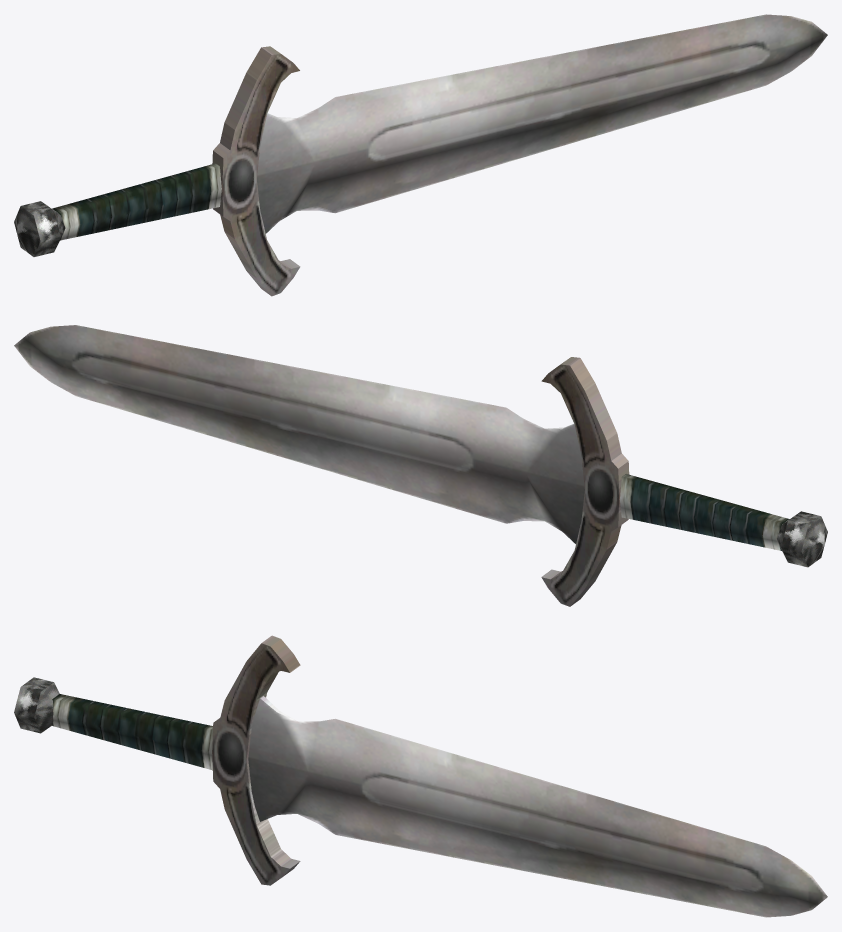
The picture shows the model from 3 angles, top to bottom: view 1: azimuth 30°, elevation 25°; view 2: azimuth 150°, elevation 25°; view 3: azimuth 330°, elevation 25°; orthographic projection.
Parts seen in each view (by area): view 1: it10026; view 2: it10026; view 3: it10026.
Part boxes in pixels (x1,y1,x2,y2): it10026: (14, 14, 827, 296); it10026: (14, 325, 827, 606); it10026: (14, 635, 827, 917).
Size of the model in its own units: 3.34 by 0.95 by 0.1892.
4 materials, 4 textured.
